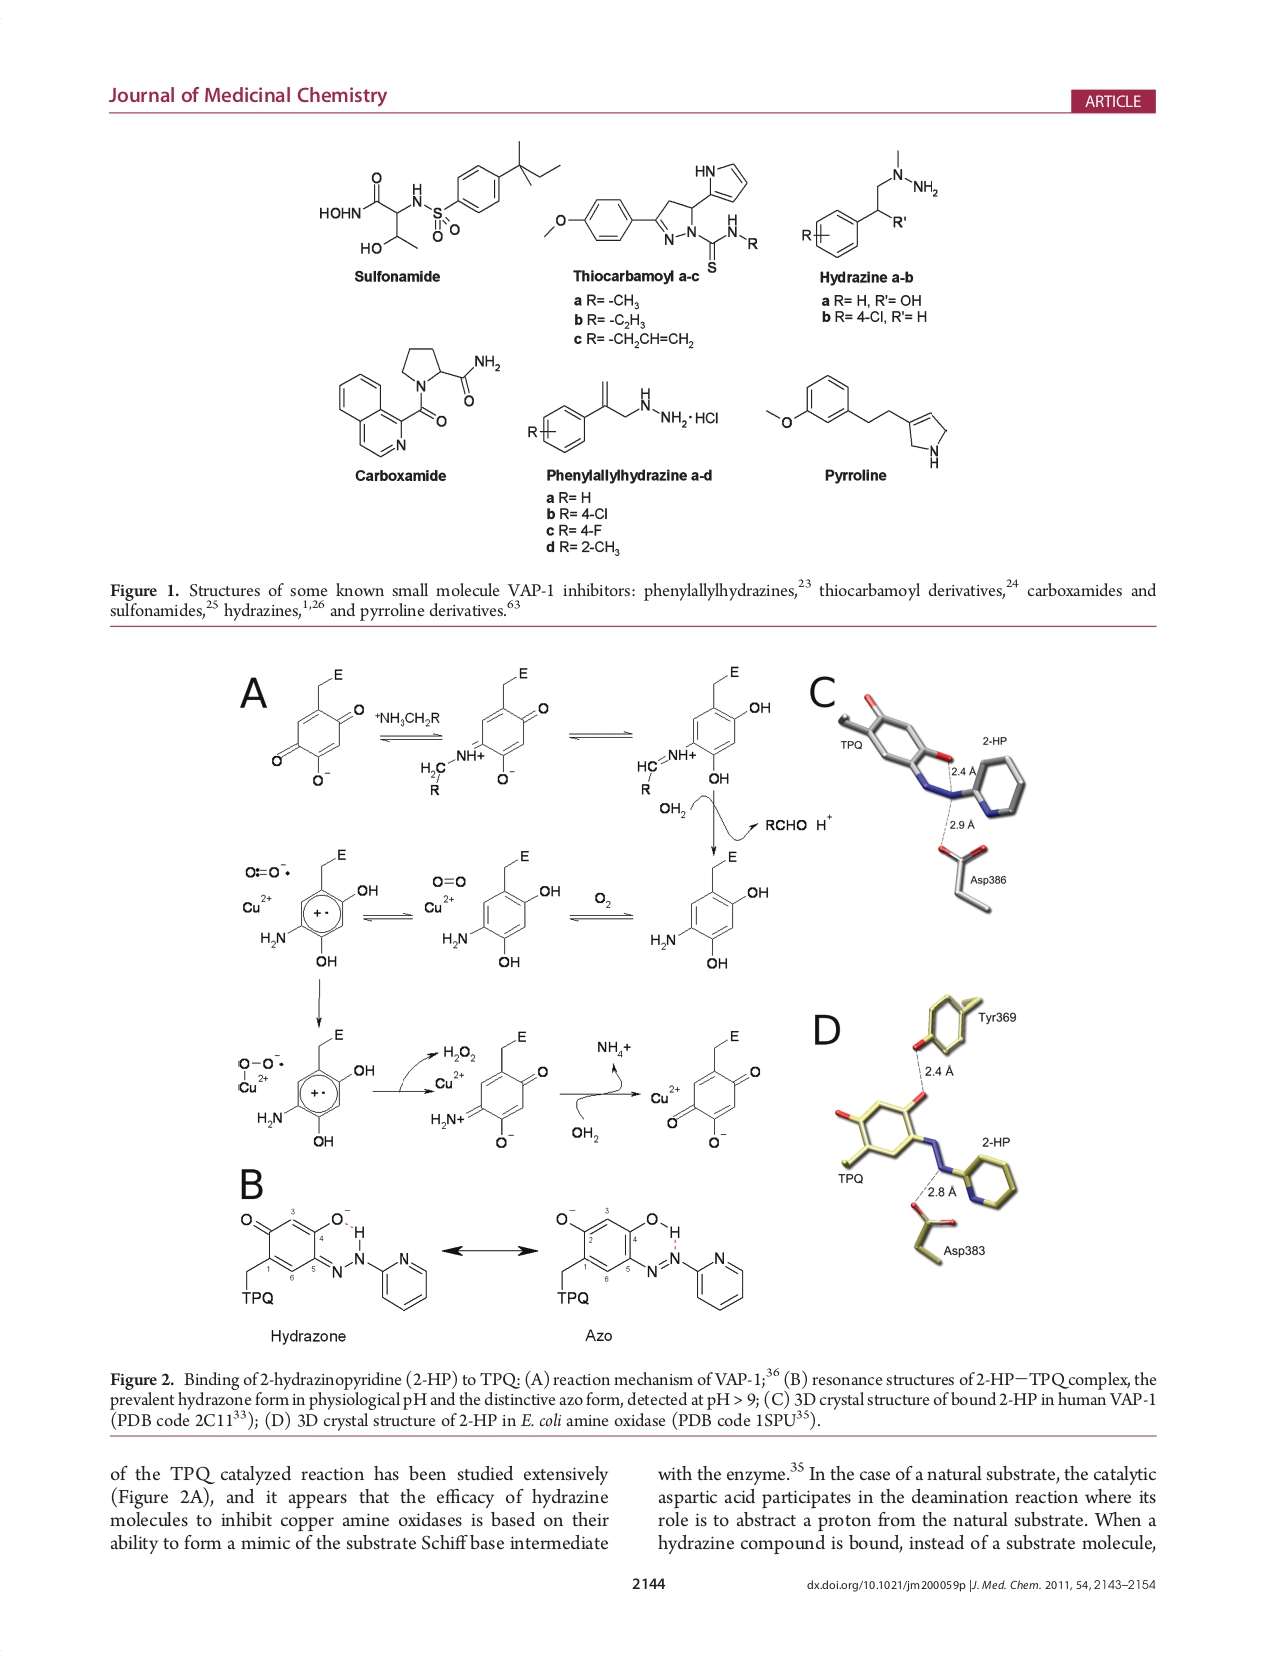exist_molecular: (316, 138, 563, 257), (543, 162, 758, 275), (552, 1202, 746, 1314), (238, 1206, 431, 1313), (332, 343, 501, 461), (636, 662, 777, 797), (765, 370, 949, 469), (419, 662, 553, 798), (523, 374, 721, 456), (797, 146, 938, 262), (649, 848, 773, 973), (440, 847, 565, 971), (427, 1028, 553, 1150), (259, 846, 382, 971), (257, 1024, 376, 1150), (665, 1028, 761, 1150), (271, 666, 366, 790)
